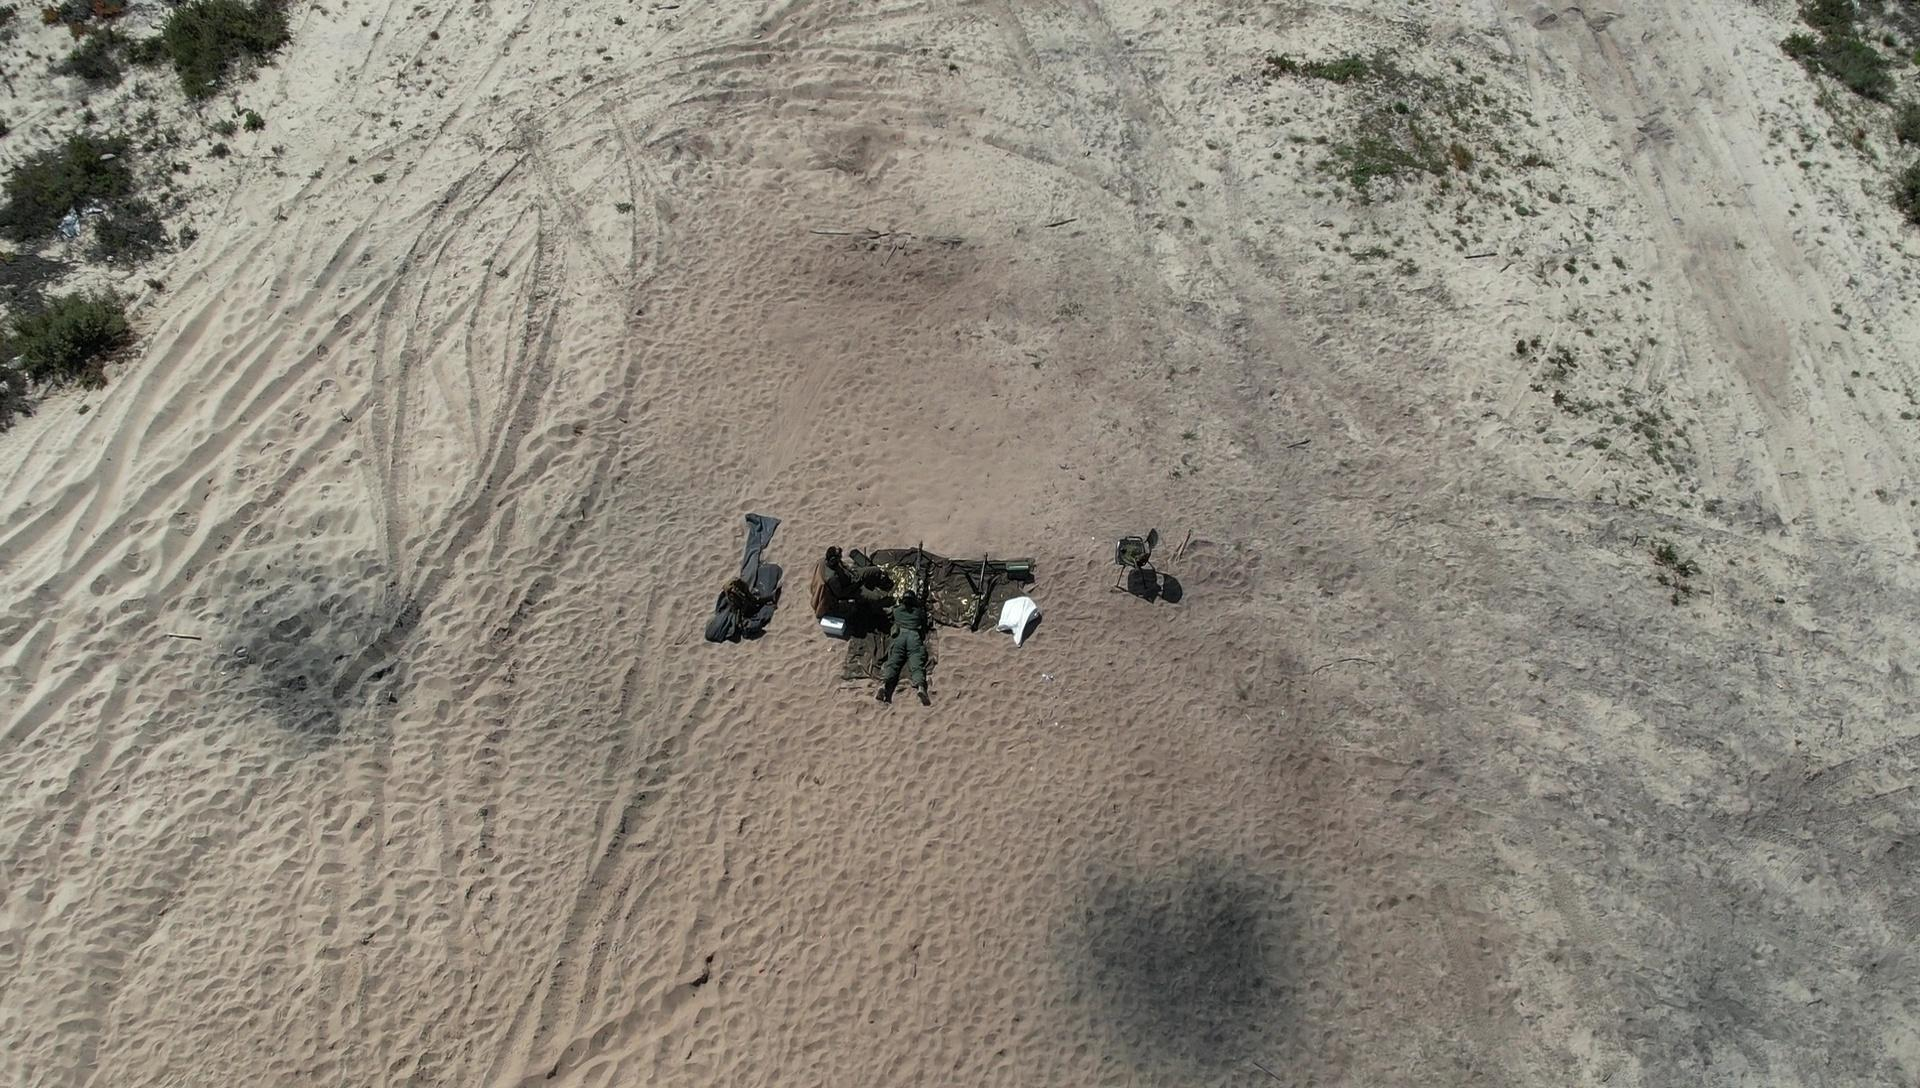Soldier: (874, 580, 939, 703), (820, 549, 885, 616)
